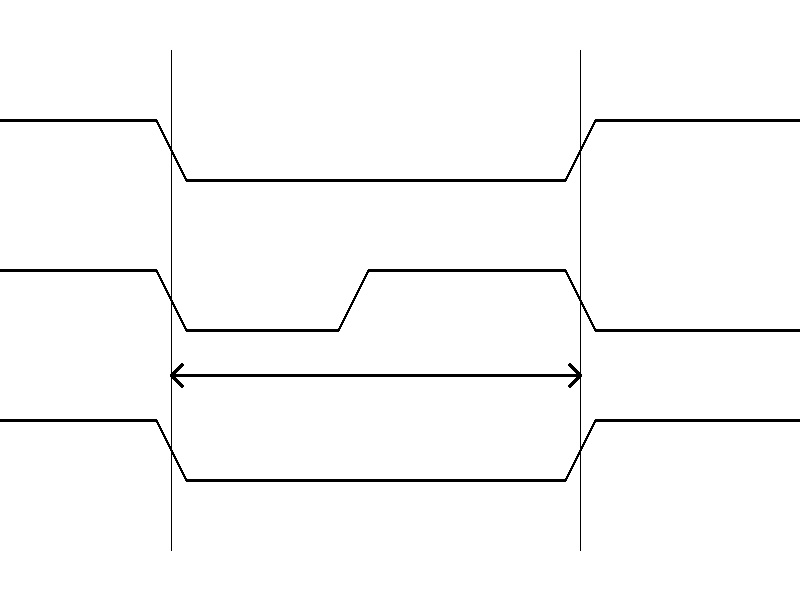double_arrow: (171, 360, 580, 390)
